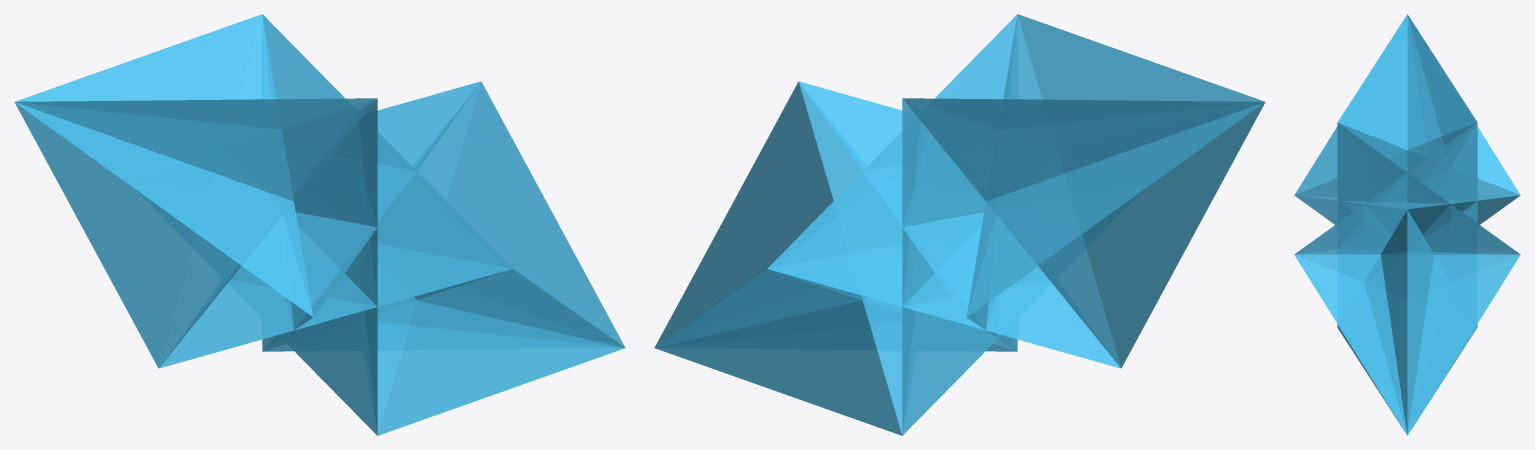
File: 31_PentagrammicCrossedAntiprismAugmented.obj
The picture shows the model from 3 angles, left to right: view 1: azimuth 30°, elevation 25°; view 2: azimuth 150°, elevation 25°; view 3: azimuth 270°, elevation 25°; orthographic projection. The views are drawn at different scales.
Bounding box in the file's own units: 1.89 × 1.17 × 1.
